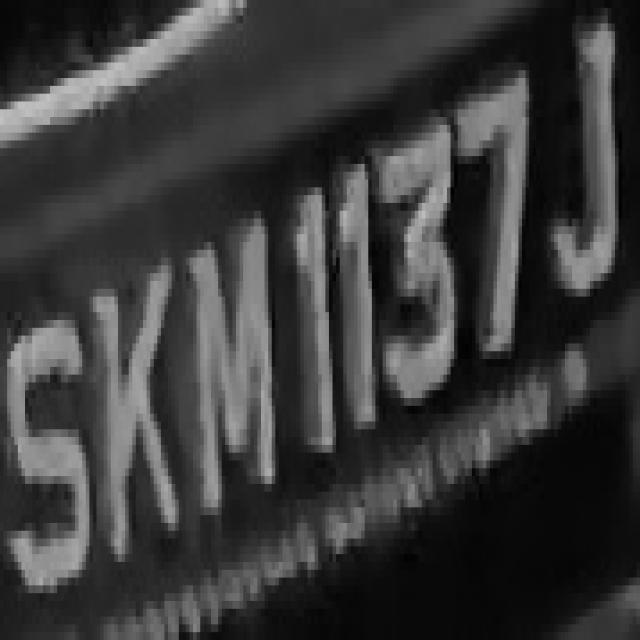1: (318, 125, 383, 523), (286, 132, 340, 492)
3: (358, 110, 458, 422)
7: (447, 70, 533, 390)
J: (536, 23, 630, 320)
K: (93, 211, 175, 554)
M: (172, 218, 279, 530)
S: (0, 281, 86, 617)
